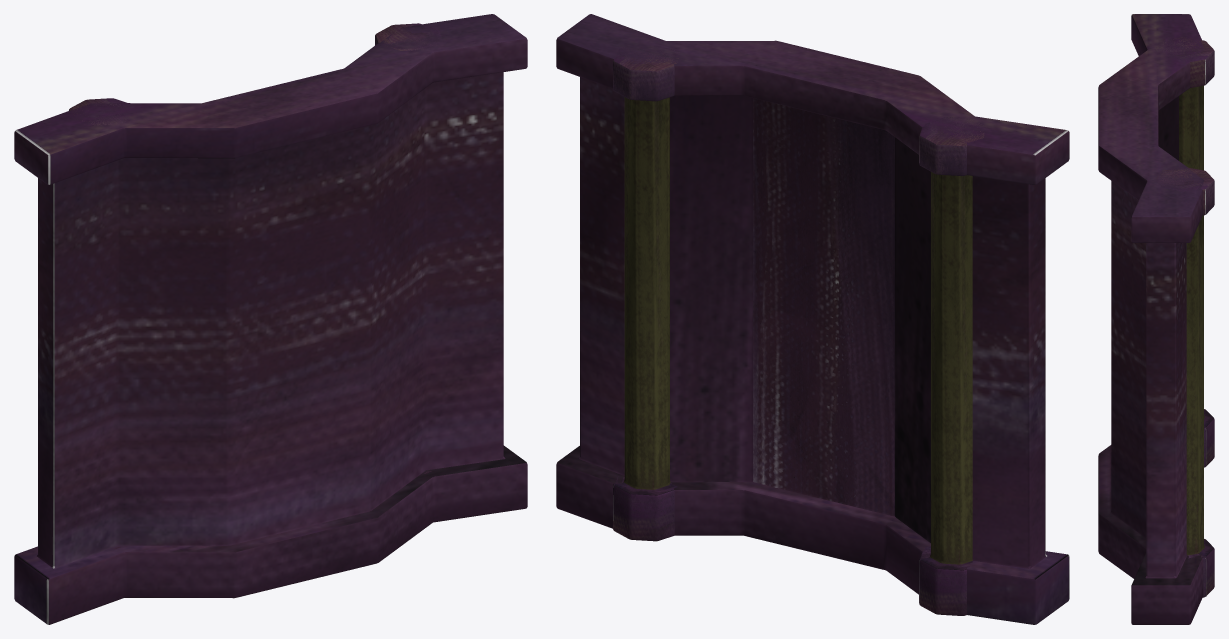
File: MANOR_WALL_3_004.obj
3 renders of one model, left to right at view 1: azimuth 30°, elevation 25°; view 2: azimuth 150°, elevation 25°; view 3: azimuth 270°, elevation 25°, orthographic. The views are drawn at different scales.
Parts seen in each view (by area): view 1: MANOR_WALL_3_004; view 2: MANOR_WALL_3_004; view 3: MANOR_WALL_3_004.
Boxes of the visible parts, x1,y1,x2,y2 form: MANOR_WALL_3_004: [14, 14, 527, 624]; MANOR_WALL_3_004: [556, 14, 1069, 624]; MANOR_WALL_3_004: [1098, 14, 1214, 624].
Size of the model in its own units: 3.2 by 3 by 0.7727.
